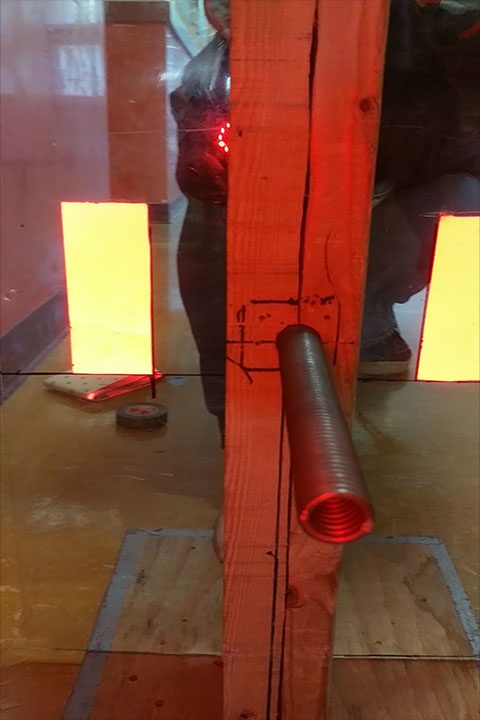gear: (59, 201, 153, 377), (415, 214, 480, 383)
